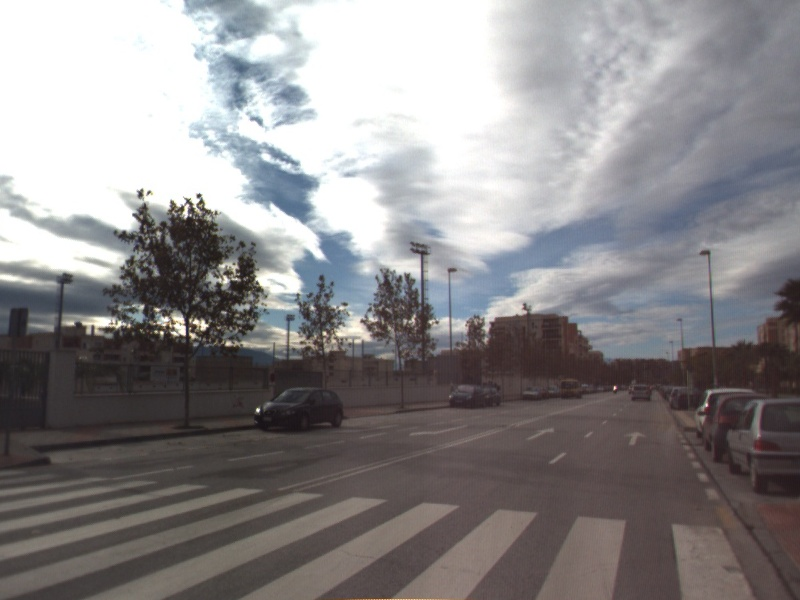STRAIGHT: (523, 425, 557, 442), (622, 429, 649, 447)
